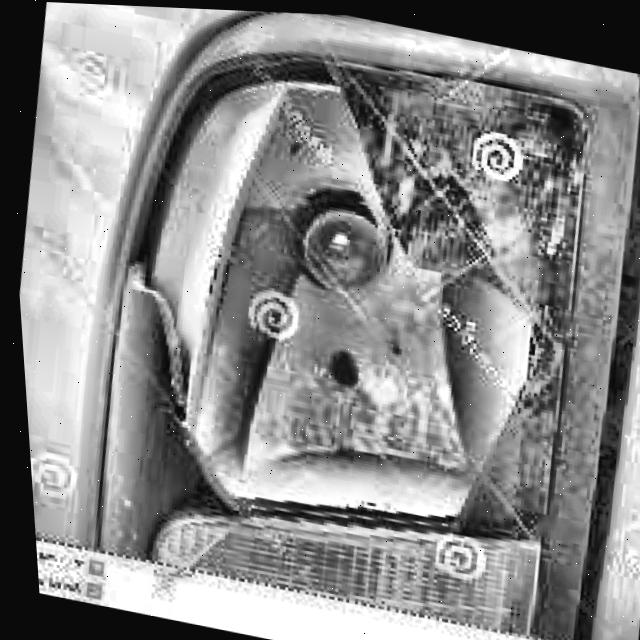tail_lamp: (106, 223, 556, 564), (144, 41, 568, 306)
